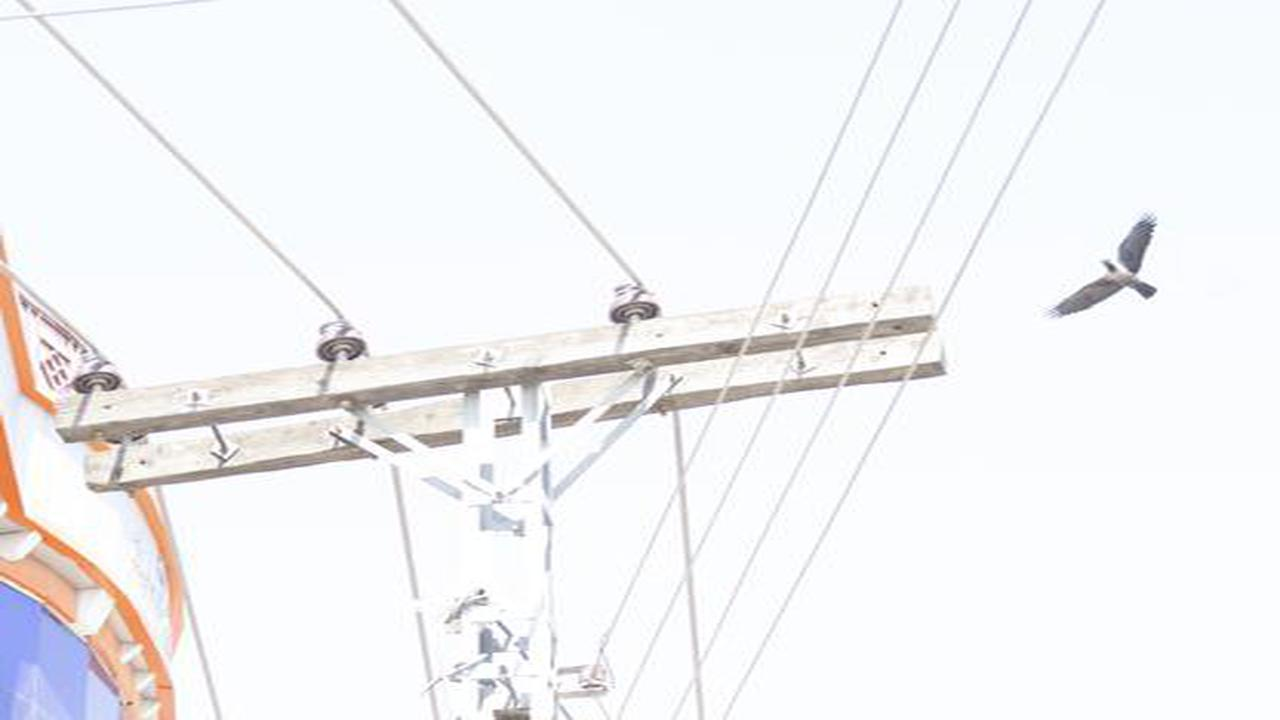insulator_pin: (604, 279, 665, 327), (312, 316, 371, 363), (72, 347, 126, 394)
